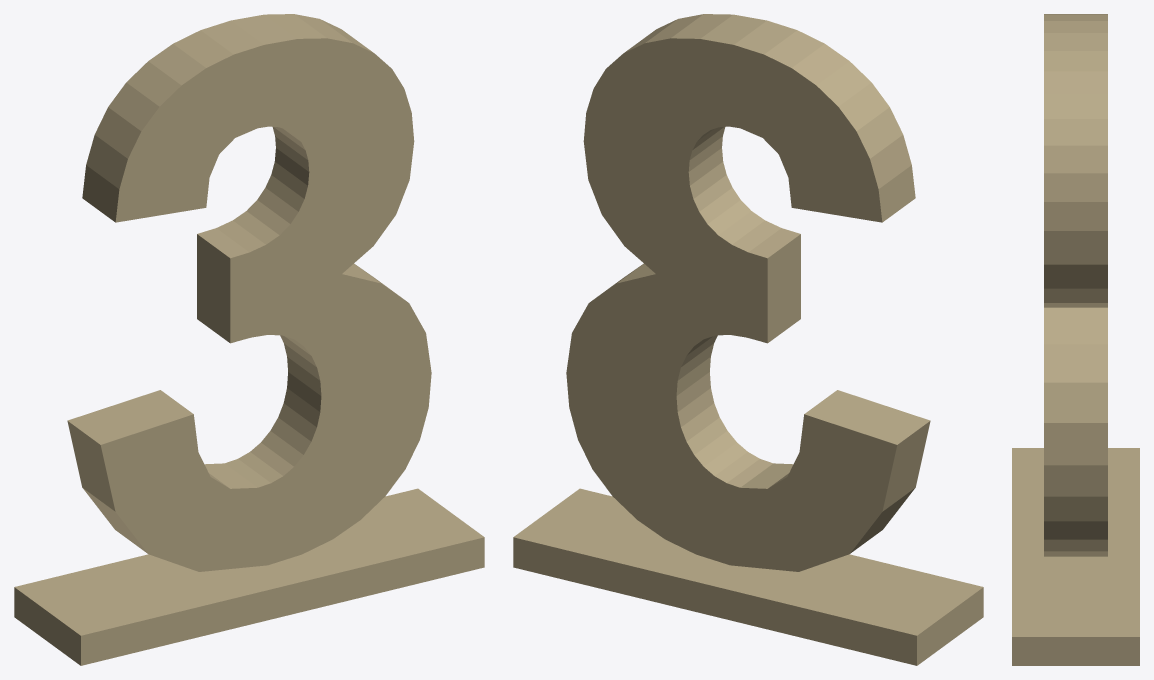
File: num_3.glb
The picture shows the model from 3 angles, left to right: view 1: azimuth 30°, elevation 25°; view 2: azimuth 150°, elevation 25°; view 3: azimuth 270°, elevation 25°; orthographic projection. The views are drawn at different scales.
Visible parts, largest first — view 1: num_3; view 2: num_3; view 3: num_3.
Part boxes in pixels (x1,y1,x2,y2): num_3: (14,14,484,665); num_3: (513,14,983,665); num_3: (1012,14,1139,665).
Bounding box in the file's own units: 1.4 × 1.86 × 0.4.
